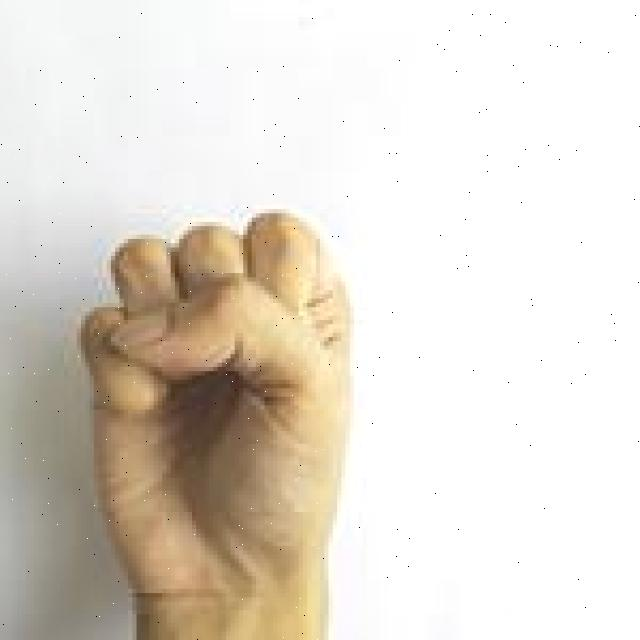S: (74, 206, 353, 640)
